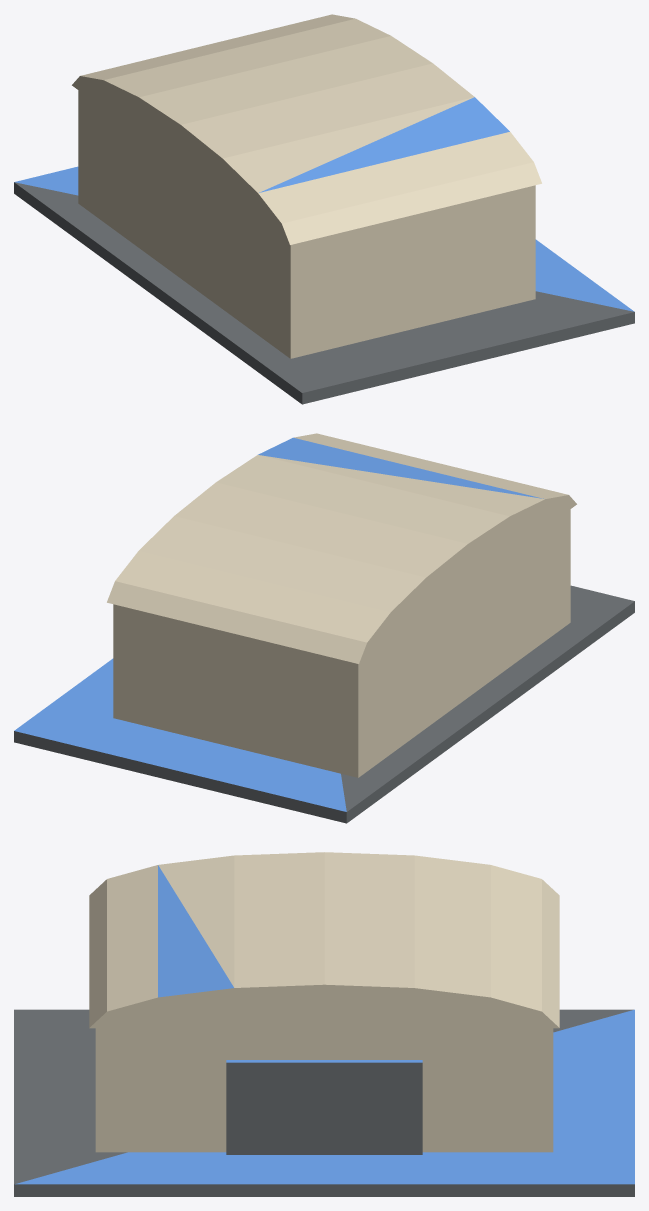
Rendered from meridian_barracks.glb.
3 renders of one model, top to bottom at view 1: azimuth 30°, elevation 25°; view 2: azimuth 150°, elevation 25°; view 3: azimuth 270°, elevation 25°, orthographic. The views are drawn at different scales.
Visible parts, largest first — view 1: hull; view 2: hull; view 3: hull, door.
Boxes of the visible parts, bbox=[...] form: hull: bbox=[14, 14, 634, 404]; hull: bbox=[14, 433, 634, 823]; hull: bbox=[14, 852, 634, 1196]; door: bbox=[226, 1060, 422, 1154].
Size of the model in its own units: 7.6 by 3.68 by 11.4.
